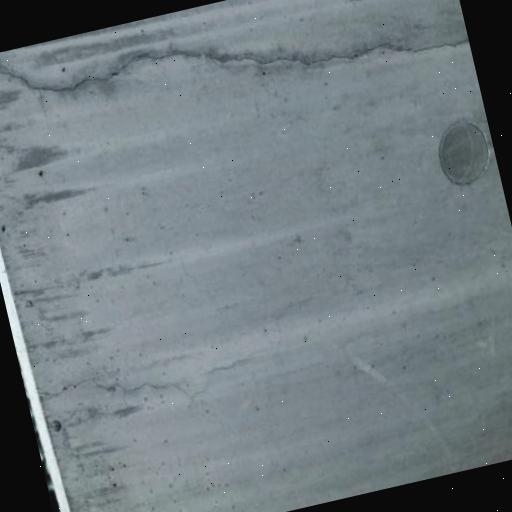spalling: (0, 29, 463, 104)
